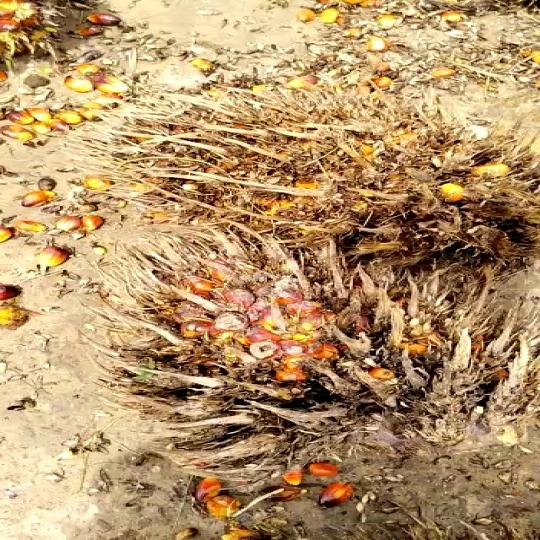terlalu masak: (122, 233, 526, 456), (126, 90, 540, 264)
